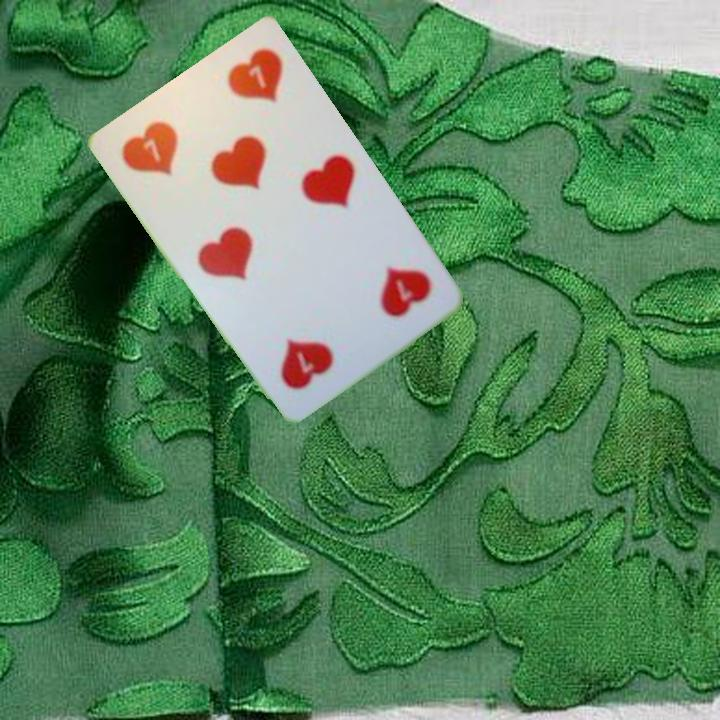h_7.png: (318, 230, 447, 355), (107, 89, 236, 214)
